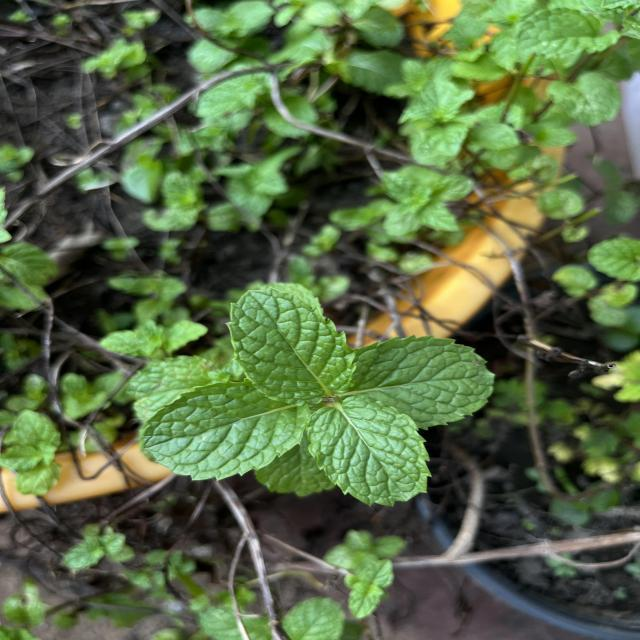Mentha spicata: (140, 377, 312, 482), (306, 393, 434, 509)
